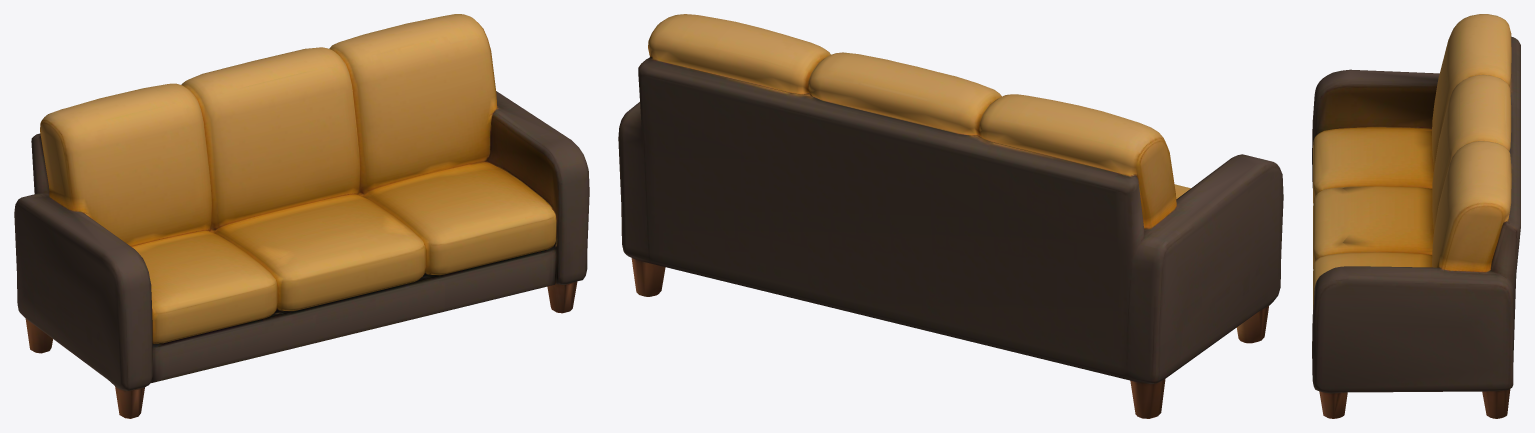
The model's file is break_room_couch_444abf63_v2.glb.
3 views of the same model, side by side, from view 1: azimuth 30°, elevation 25°; view 2: azimuth 150°, elevation 25°; view 3: azimuth 270°, elevation 25° (orthographic). The views are drawn at different scales.
Visible parts, largest first — view 1: material; view 2: material; view 3: material.
Boxes of the visible parts, bbox=[...] form: material: bbox=[14, 14, 589, 418]; material: bbox=[618, 14, 1283, 418]; material: bbox=[1312, 14, 1520, 418].
Bounding box in the file's own units: 1.9 × 0.9158 × 0.7967.
Materials: 1 (1 with a texture image).
